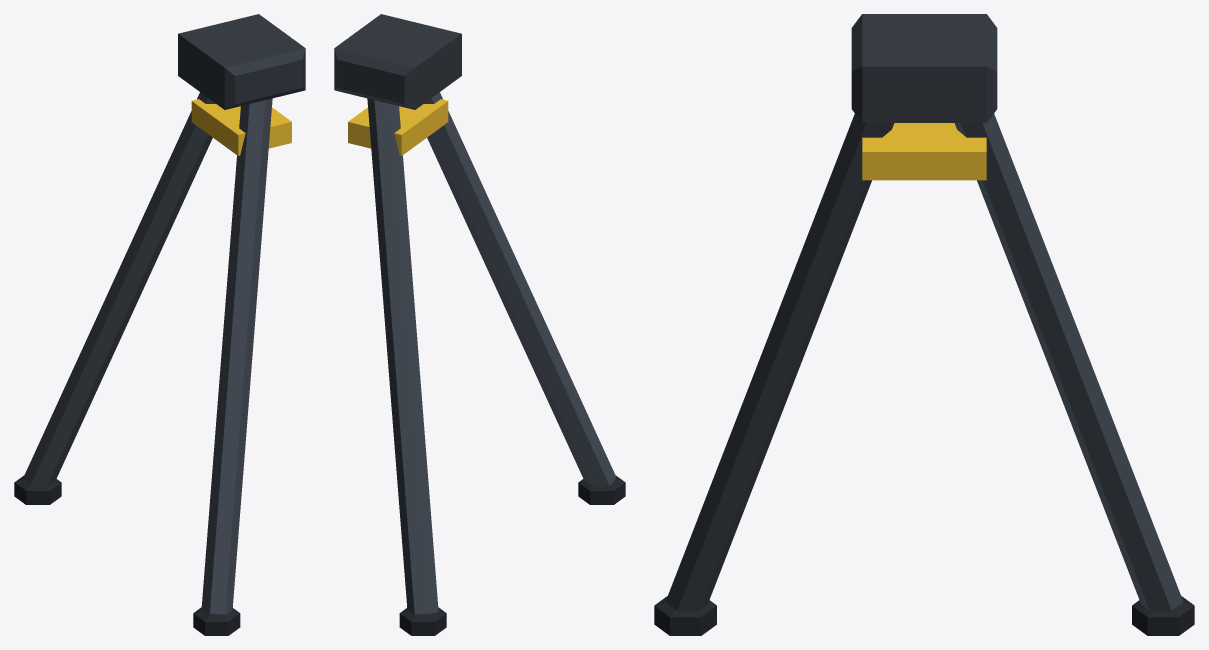
The model's file is grip_bipod.glb.
3 renders of one model, left to right at view 1: azimuth 30°, elevation 25°; view 2: azimuth 150°, elevation 25°; view 3: azimuth 270°, elevation 25°, orthographic. The views are drawn at different scales.
Parts seen in each view (by area): view 1: grip_bipod; view 2: grip_bipod; view 3: grip_bipod.
Boxes of the visible parts, x1,y1,x2,y2 form: grip_bipod: [14, 14, 305, 635]; grip_bipod: [334, 14, 625, 635]; grip_bipod: [654, 14, 1194, 635].
Bounding box in the file's own units: 0.0513 × 0.142 × 0.1041.
